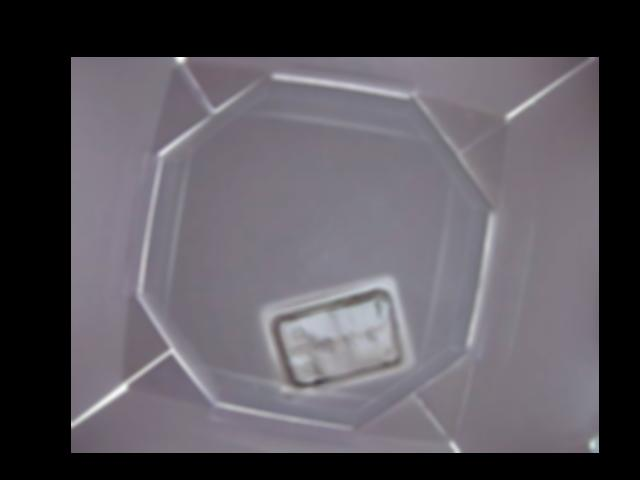Medicine: (259, 274, 410, 399)
